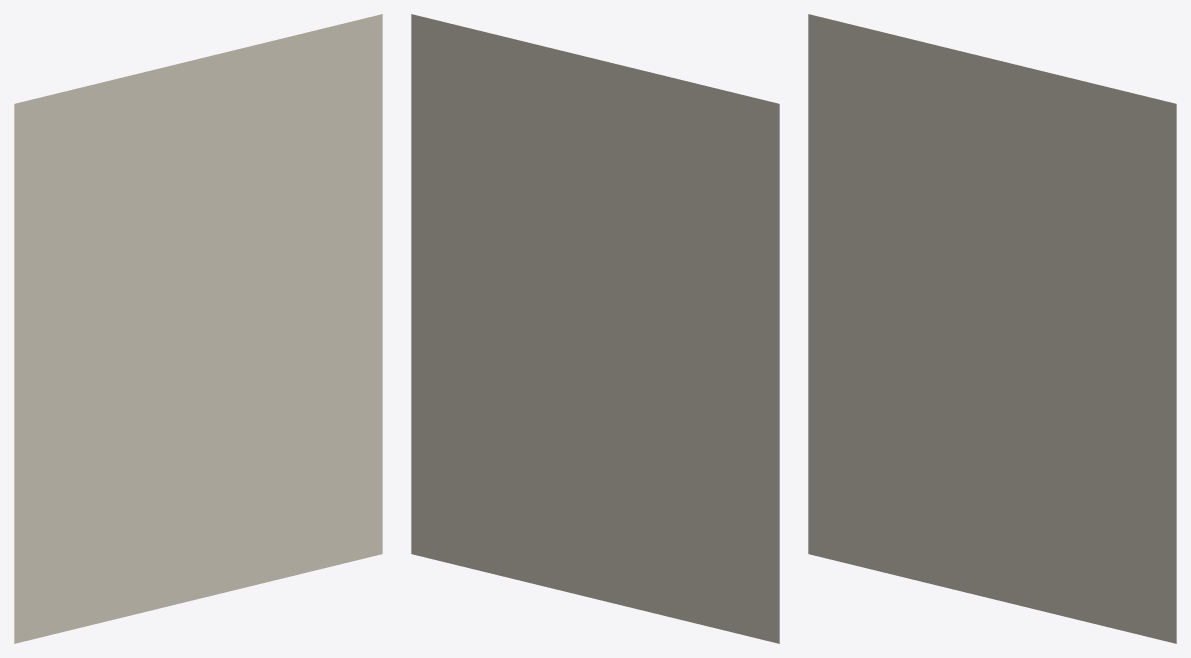
Rendered from BangGDVH.glb.
3 renders of one model, left to right at view 1: azimuth 30°, elevation 25°; view 2: azimuth 150°, elevation 25°; view 3: azimuth 330°, elevation 25°, orthographic.
Visible parts, largest first — view 1: geometry_0; view 2: geometry_0; view 3: geometry_0.
Boxes of the visible parts, left/top/right/bottom form: geometry_0: left=14, top=14, right=382, bottom=643; geometry_0: left=411, top=14, right=779, bottom=643; geometry_0: left=808, top=14, right=1176, bottom=643.
Bounding box in the file's own units: 0.3 × 0.42 × 0.01.
